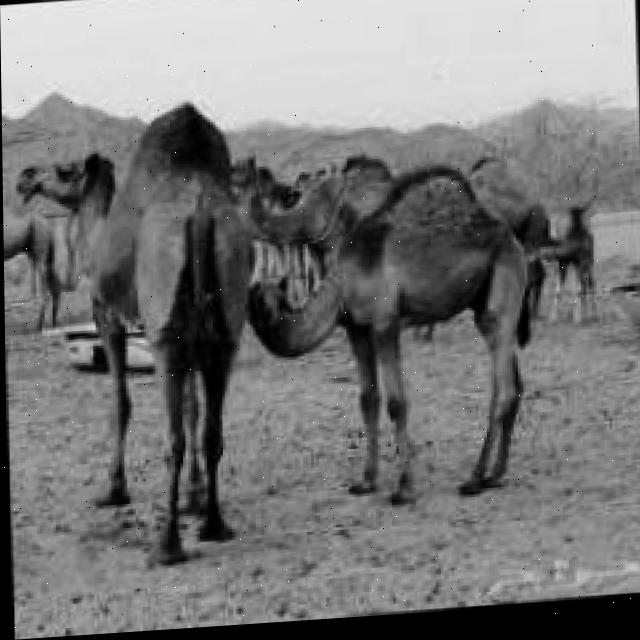Camel: (229, 135, 538, 515), (13, 95, 257, 575)
